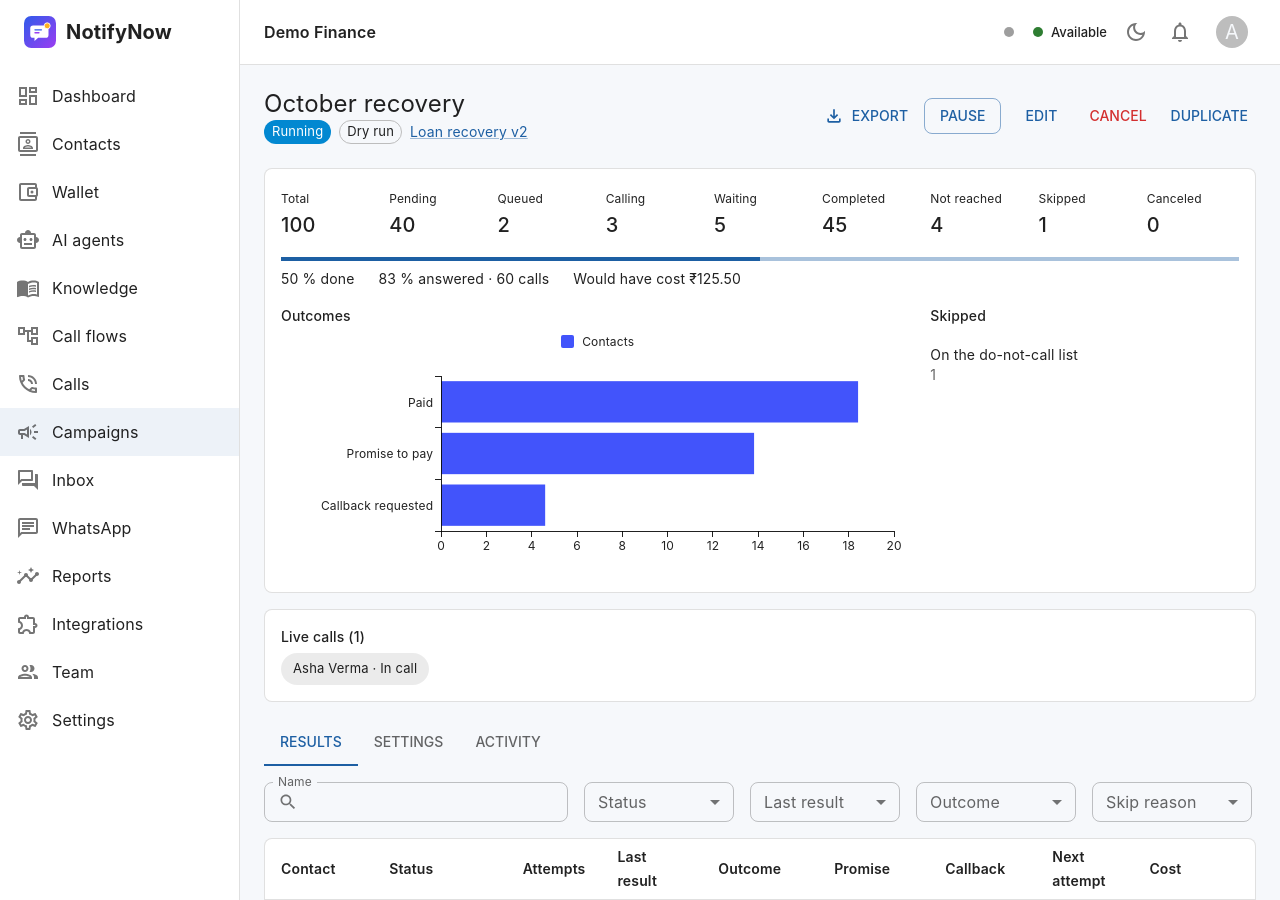
Test: /campaigns/:id › export: CSV → progress → download link; shortened phones without contacts.export
Click the button "Export" at point(868, 116), box left=820, top=98, right=916, bottom=134
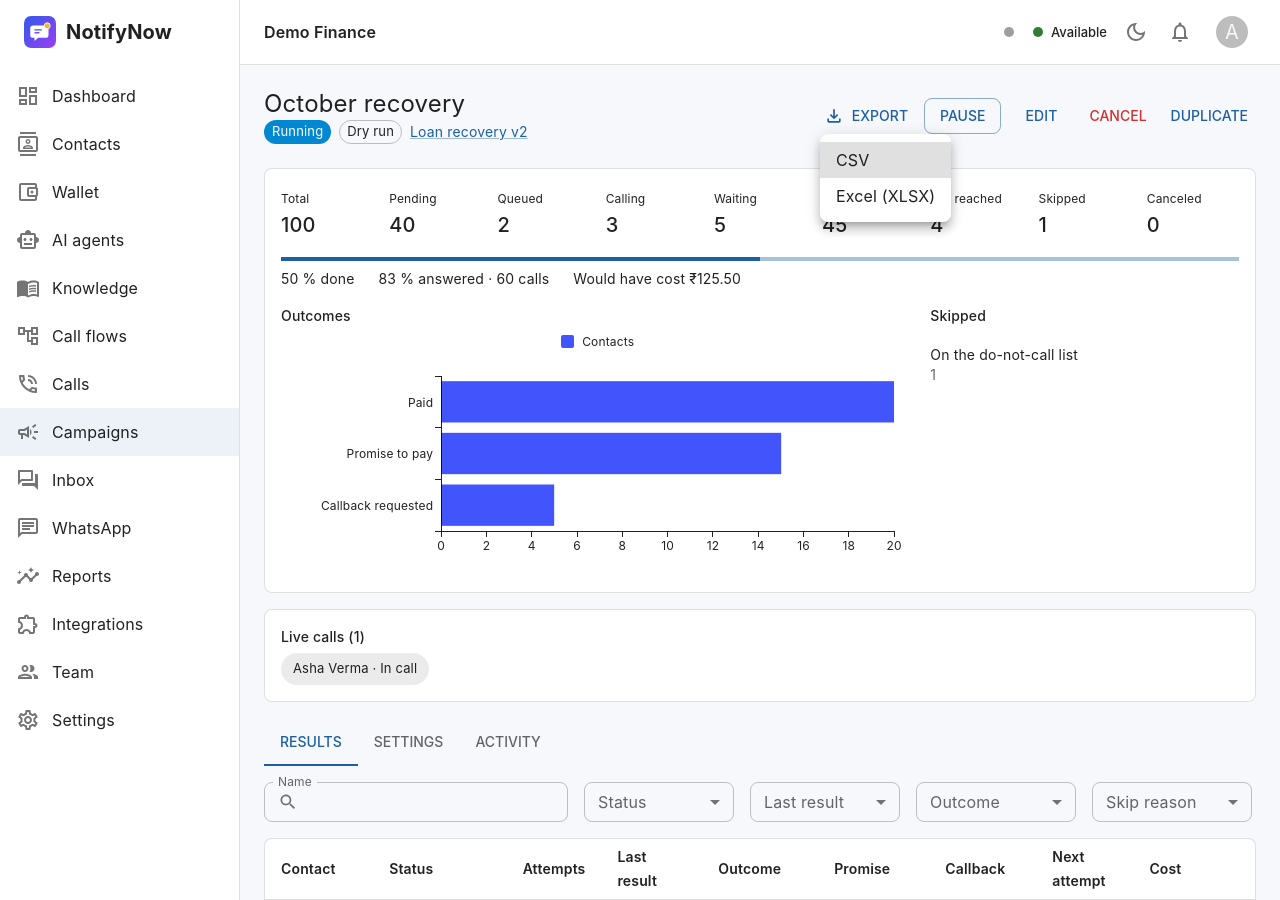
Click the menu item "CSV" at point(886, 160), box left=820, top=142, right=951, bottom=178
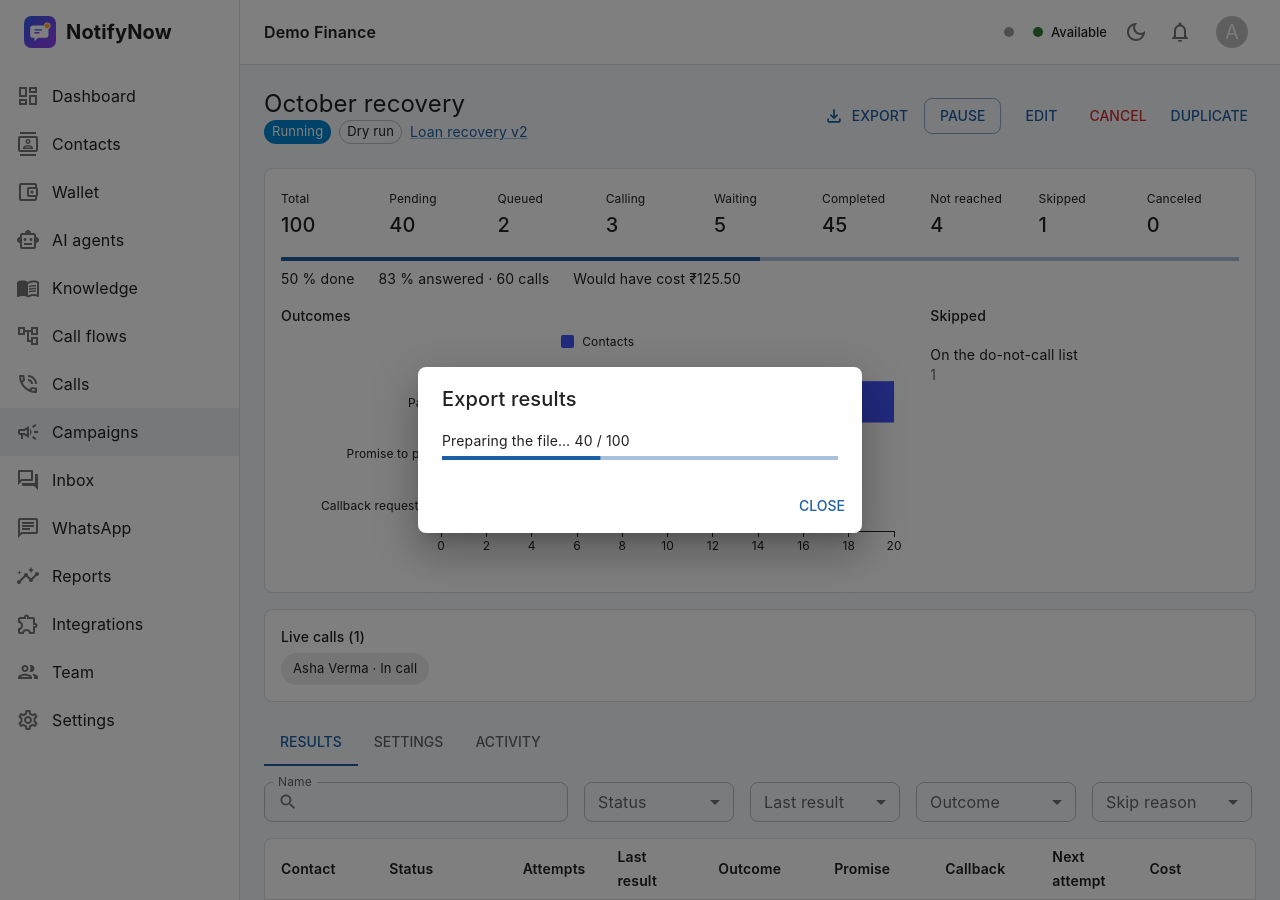
Expected: the text "Preparing the file… 40 / 100" is shown, left=442, top=432, right=630, bottom=449
Click the button "Close" at point(822, 506), box left=790, top=488, right=854, bottom=525
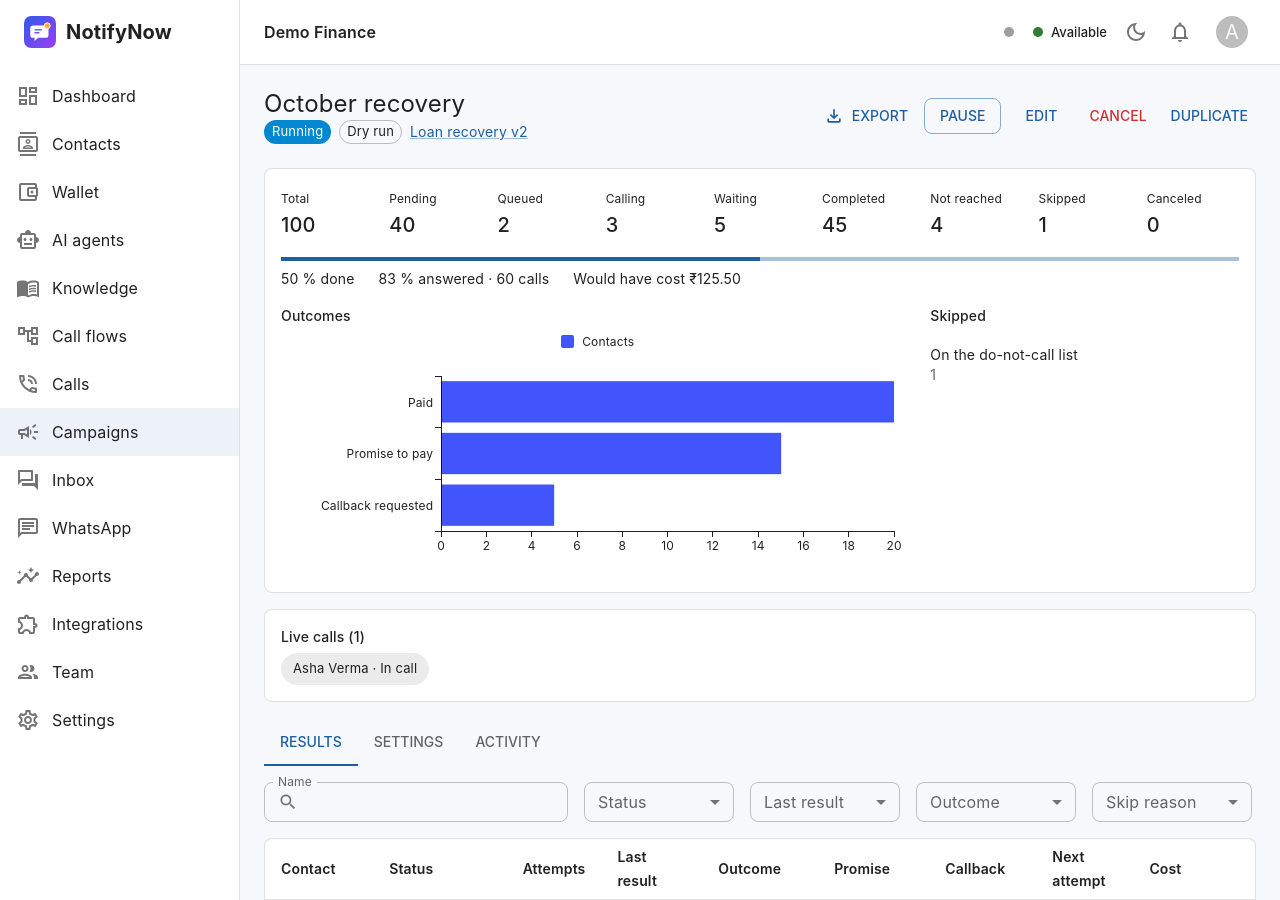
Expected: the dialog is gone
Click the button "Export" at point(868, 116), box left=820, top=98, right=916, bottom=134
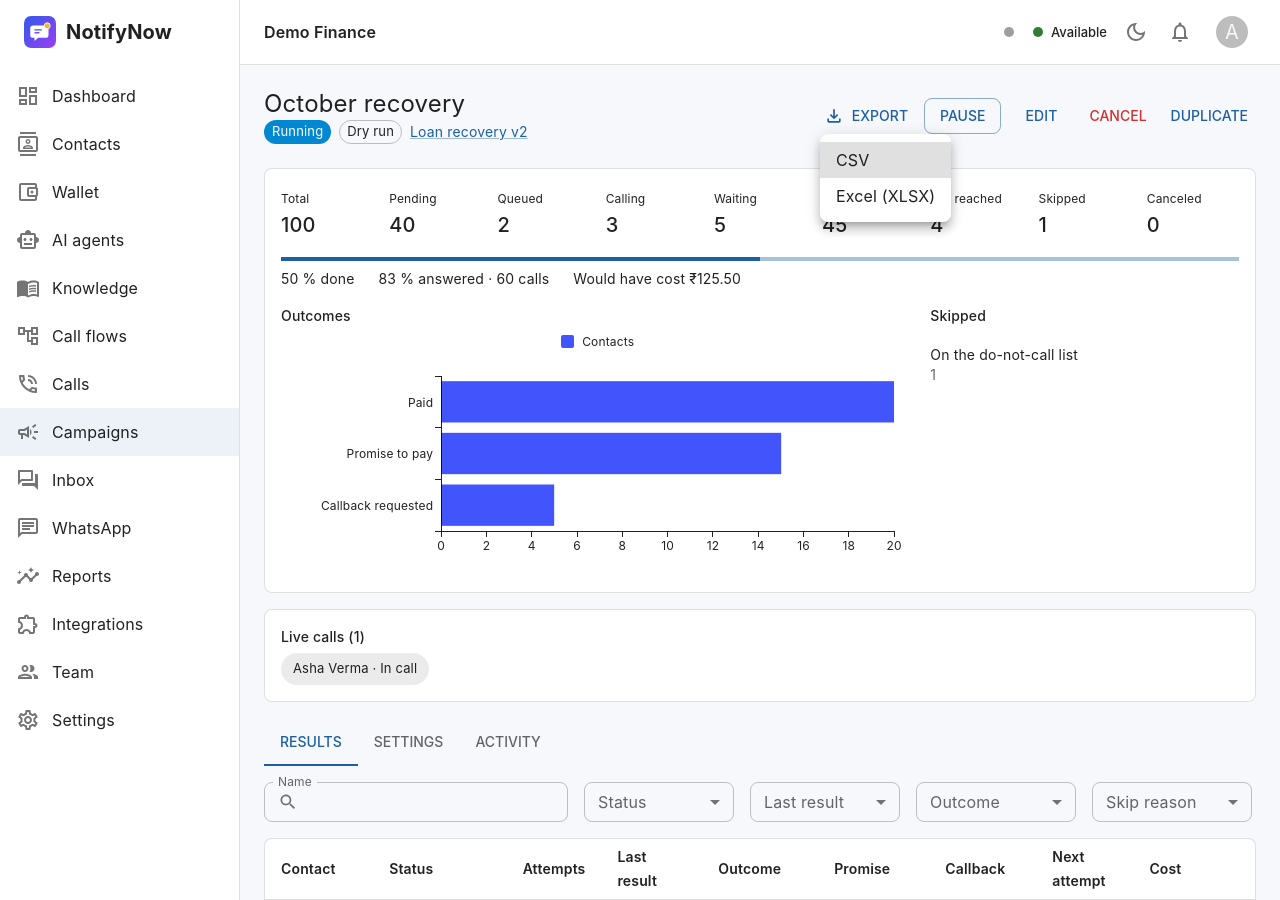
Click the menu item "Excel (XLSX)" at point(886, 196), box left=836, top=186, right=935, bottom=206
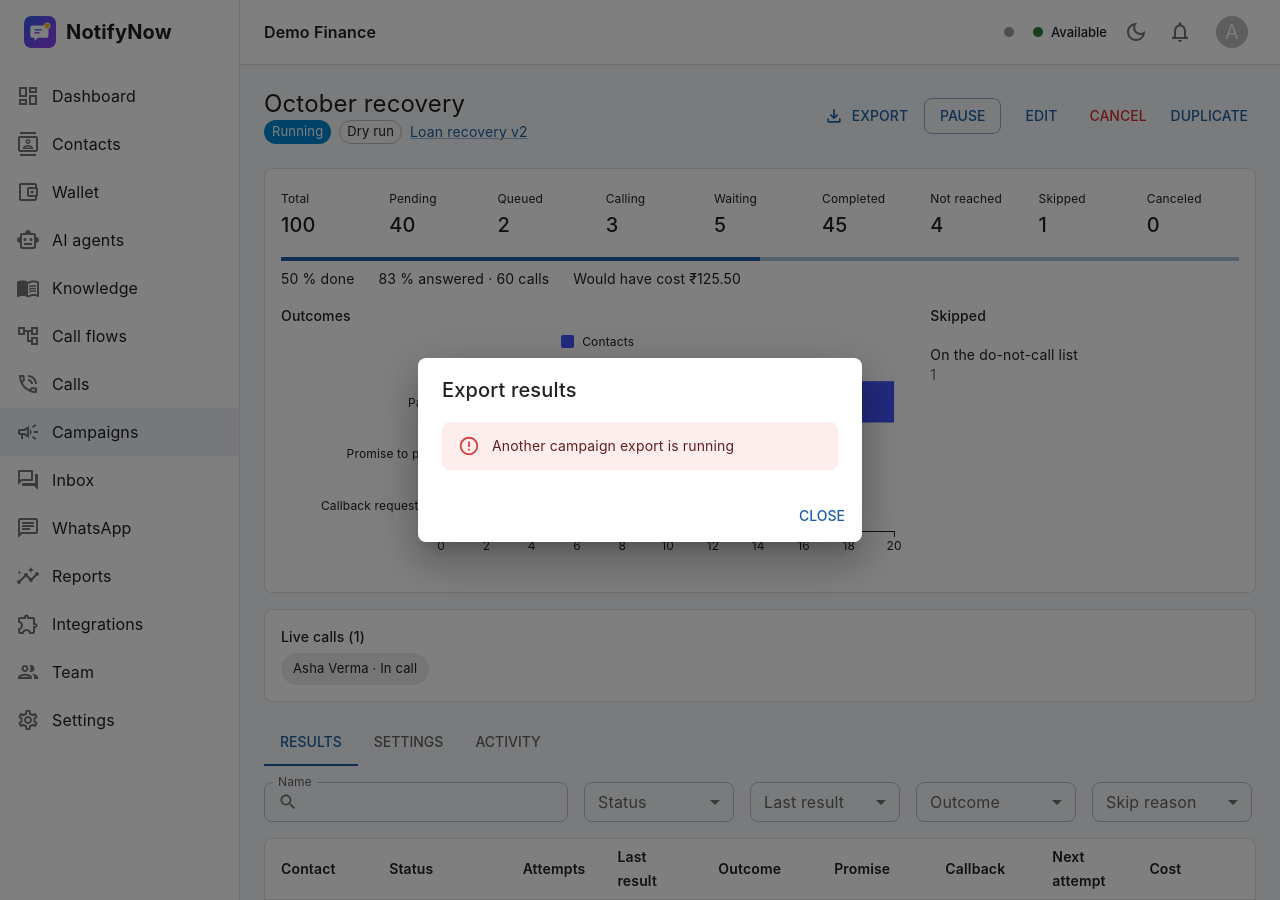
Expected: the text "Another campaign export is running" is shown, left=492, top=437, right=734, bottom=454
